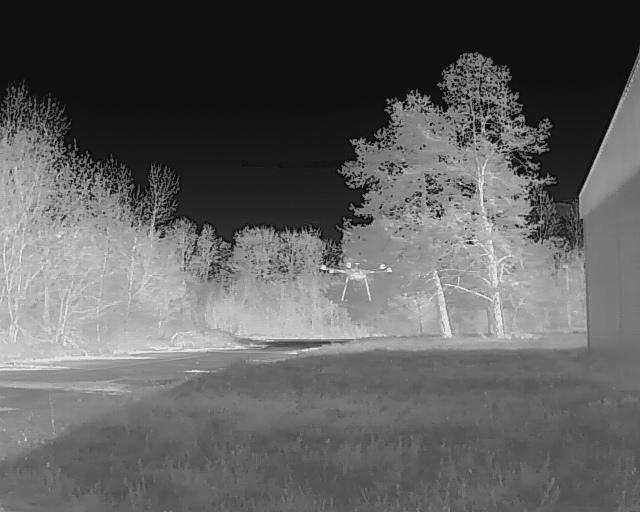drone: (312, 258, 399, 306)
